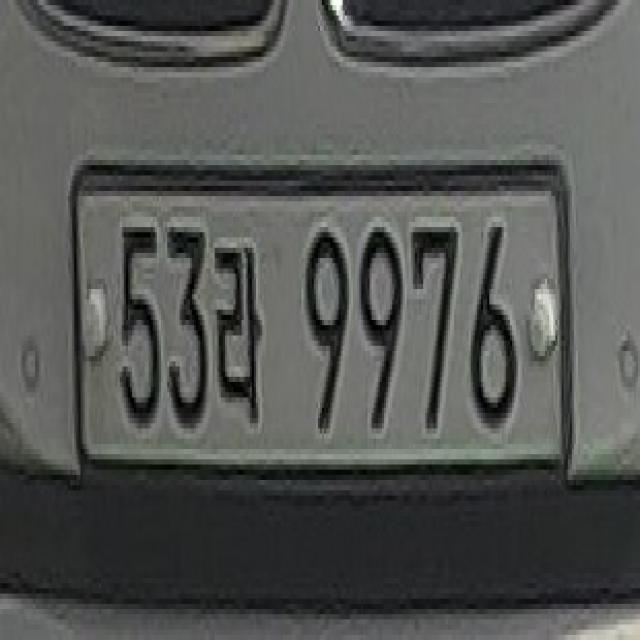3: (159, 217, 211, 449)
5: (114, 201, 169, 439)
6: (464, 212, 532, 434)
7: (402, 180, 467, 474)
9: (357, 212, 411, 449), (306, 217, 353, 464)
la: (208, 227, 270, 428)
license_plate: (72, 134, 580, 485)
